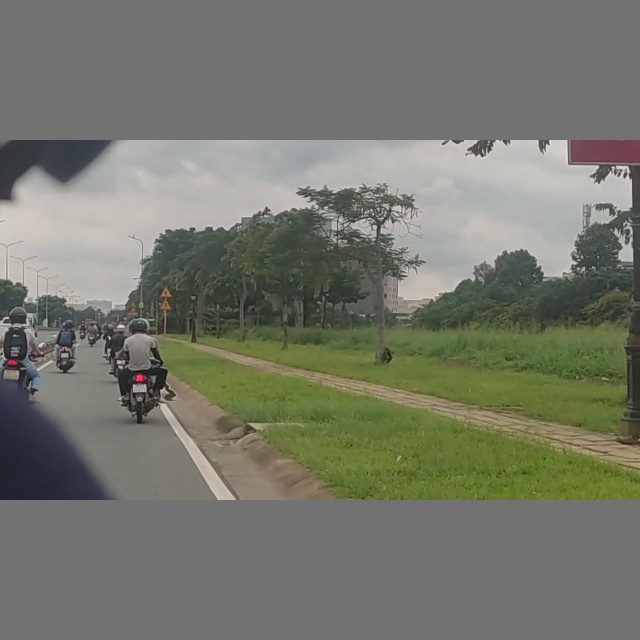W.207: (159, 286, 173, 297)
W.224: (159, 299, 172, 311)
